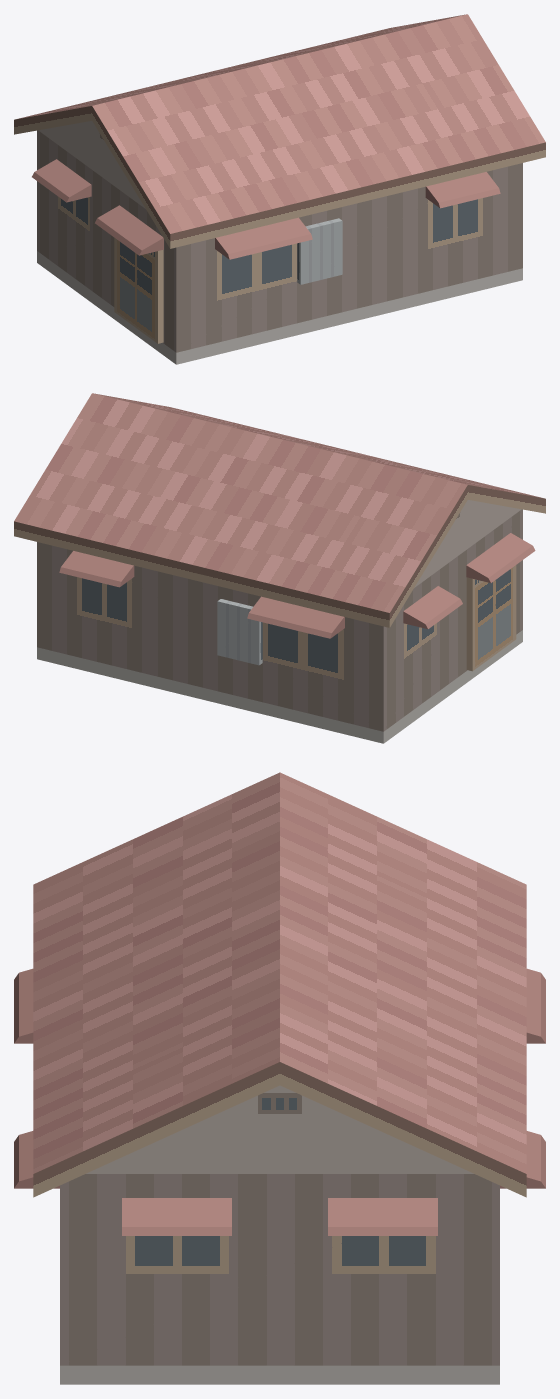
The model's file is 0573_Majima_Residence.glb.
The picture shows the model from 3 angles, top to bottom: view 1: azimuth 30°, elevation 25°; view 2: azimuth 150°, elevation 25°; view 3: azimuth 270°, elevation 25°; orthographic projection. The views are drawn at different scales.
Visible parts, largest first — view 1: part_0; view 2: part_0; view 3: part_0.
Part boxes in pixels (<box>): part_0: <box>14,14,545,364</box>; part_0: <box>14,393,545,743</box>; part_0: <box>14,772,545,1384</box>.
Size of the model in its own units: 9.53 by 4.86 by 7.01.
1 material, 1 textured.
